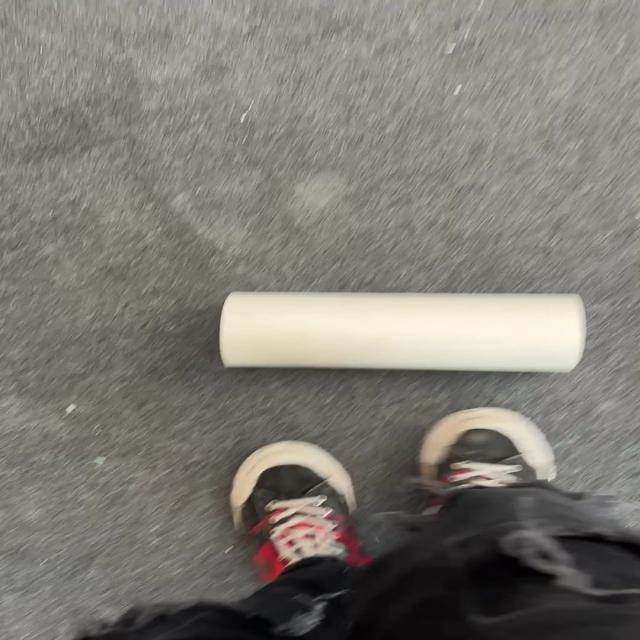Coral: (217, 290, 587, 374)
